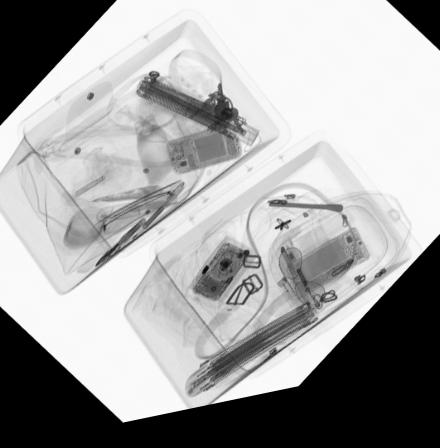Lighter: (277, 288, 305, 327)
